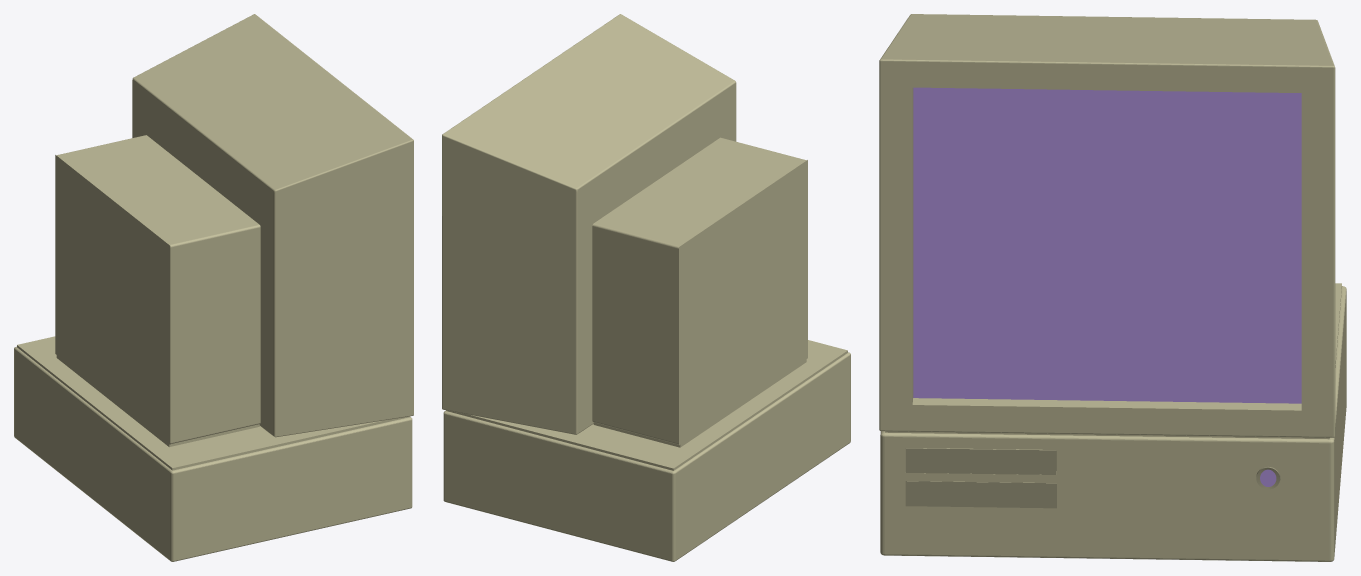
The model's file is copmuterold.fbx.
3 views of the same model, side by side, from view 1: azimuth 30°, elevation 25°; view 2: azimuth 150°, elevation 25°; view 3: azimuth 270°, elevation 25° (orthographic). The views are drawn at different scales.
Visible parts, largest first — view 1: Plane; view 2: Plane; view 3: Plane.
Boxes of the visible parts, bbox=[...] form: Plane: bbox=[14, 14, 413, 561]; Plane: bbox=[442, 14, 850, 561]; Plane: bbox=[879, 14, 1346, 561].
Size of the model in its own units: 272 by 387 by 330.
